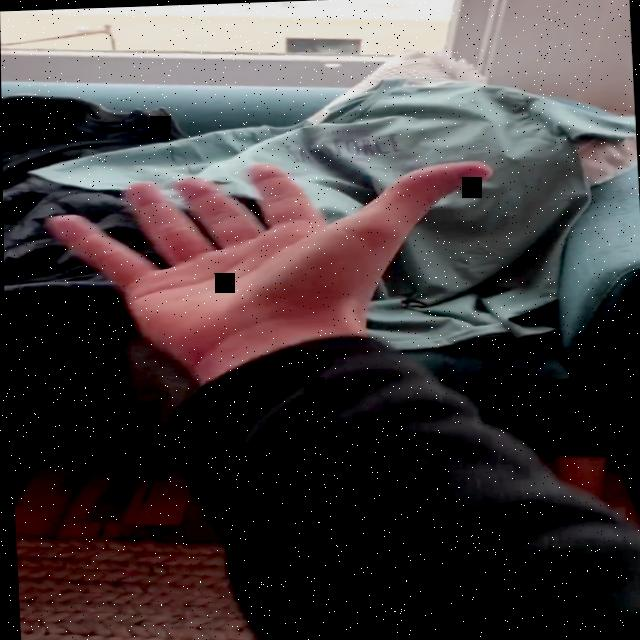Paper: (51, 156, 506, 353)
